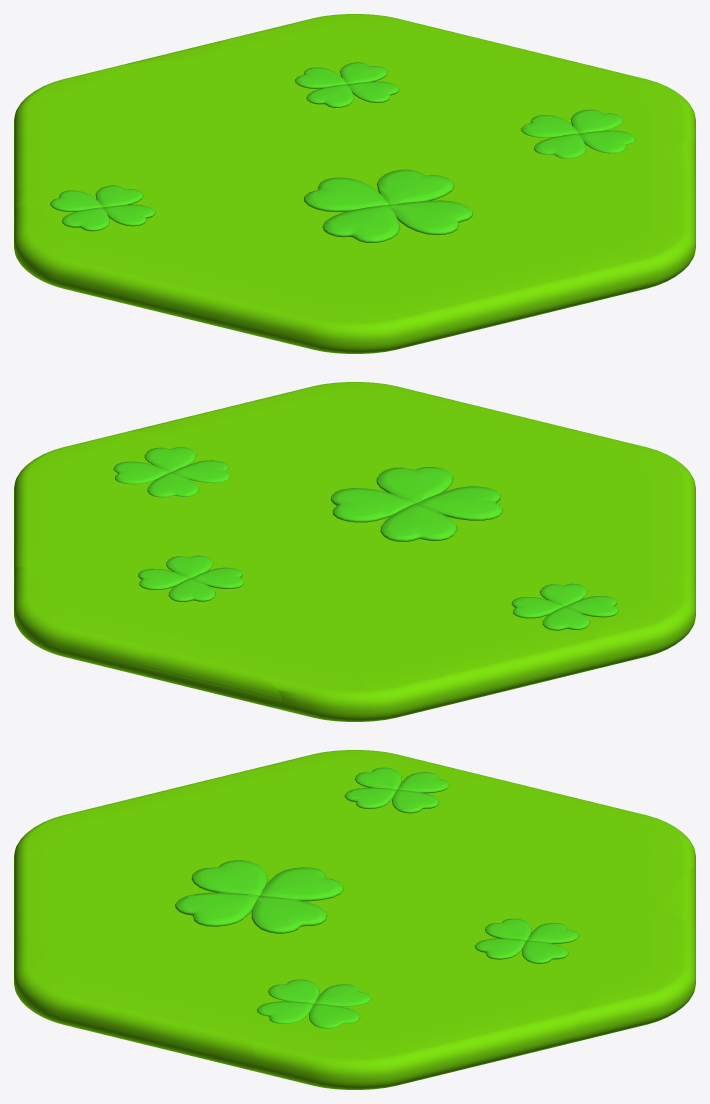
Rendered from leaf broken new111seperated.fbx.
The picture shows the model from 3 angles, top to bottom: view 1: azimuth 30°, elevation 25°; view 2: azimuth 150°, elevation 25°; view 3: azimuth 270°, elevation 25°; orthographic projection.
Visible parts, largest first — view 1: Cylinder.296, NurbsPath.109, Cylinder.300, Cylinder.281, Cylinder.288, Cylinder.282, Cylinder.286, Cylinder.270, Cylinder.289, Cylinder.287, Cylinder.266, Cylinder.284 (+32 smaller); view 2: Cylinder.281, Cylinder.296, NurbsPath.109, Cylinder.266, Cylinder.282, Cylinder.273, Cylinder.263, Cylinder.286, Cylinder.270, Cylinder.289, Cylinder.287, Cylinder.300 (+32 smaller); view 3: Cylinder.296, NurbsPath.109, Cylinder.281, Cylinder.280, Cylinder.270, Cylinder.286, Cylinder.272, Cylinder.300, Cylinder.289, Cylinder.263, Cylinder.271, Cylinder.266 (+32 smaller).
Part boxes in pixels (box(x1,y1,x2,y2)): Cylinder.296: box(545, 168, 695, 286); NurbsPath.109: box(304, 169, 472, 242); Cylinder.300: box(386, 239, 532, 340); Cylinder.281: box(14, 133, 177, 200); Cylinder.288: box(179, 264, 346, 346); Cylinder.282: box(14, 206, 136, 302); Cylinder.286: box(137, 185, 298, 263); Cylinder.270: box(345, 34, 488, 111); Cylinder.289: box(226, 221, 385, 298); Cylinder.287: box(241, 148, 399, 217); Cylinder.266: box(24, 56, 214, 101); Cylinder.284: box(153, 142, 278, 208); Cylinder.281: box(389, 595, 556, 704); Cylinder.296: box(194, 382, 412, 449); NurbsPath.109: box(330, 467, 503, 541); Cylinder.266: box(193, 629, 370, 721); Cylinder.282: box(594, 571, 695, 669); Cylinder.273: box(332, 616, 450, 721); Cylinder.263: box(14, 588, 151, 670); Cylinder.286: box(445, 533, 613, 595); Cylinder.270: box(29, 523, 227, 588); Cylinder.289: box(491, 470, 624, 536); Cylinder.287: box(304, 528, 485, 575); Cylinder.300: box(437, 414, 608, 469); Cylinder.296: box(15, 943, 221, 1053); NurbsPath.109: box(175, 860, 343, 933); Cylinder.281: box(391, 776, 593, 853); Cylinder.280: box(285, 1008, 418, 1089); Cylinder.270: box(416, 933, 601, 1008); Cylinder.286: box(226, 791, 390, 860); Cylinder.272: box(362, 976, 488, 1080); Cylinder.300: box(14, 860, 151, 919); Cylinder.289: box(93, 810, 278, 860); Cylinder.263: box(602, 935, 695, 1027); Cylinder.271: box(431, 989, 582, 1063); Cylinder.266: box(573, 824, 695, 910).
Bounding box in the file's own units: 36.04 × 1.79 × 32.47.
